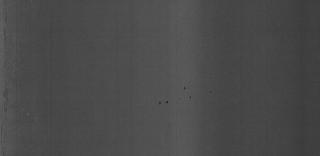oil spot: (152, 82, 216, 108)
